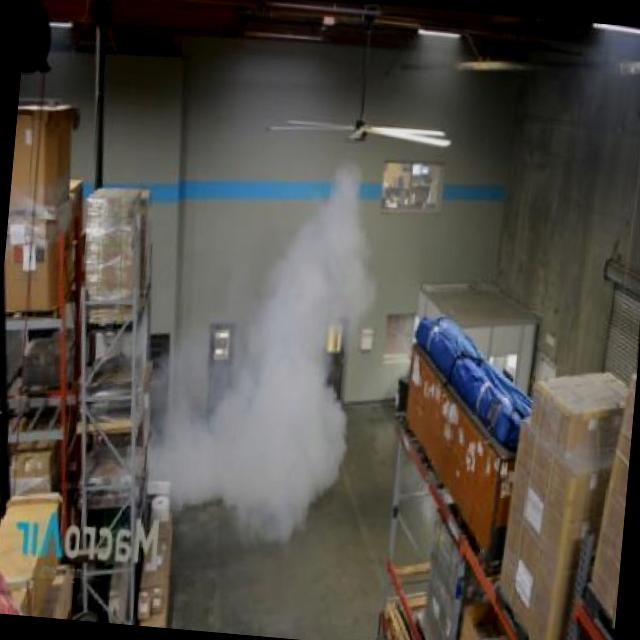smoke: (149, 142, 404, 549)
